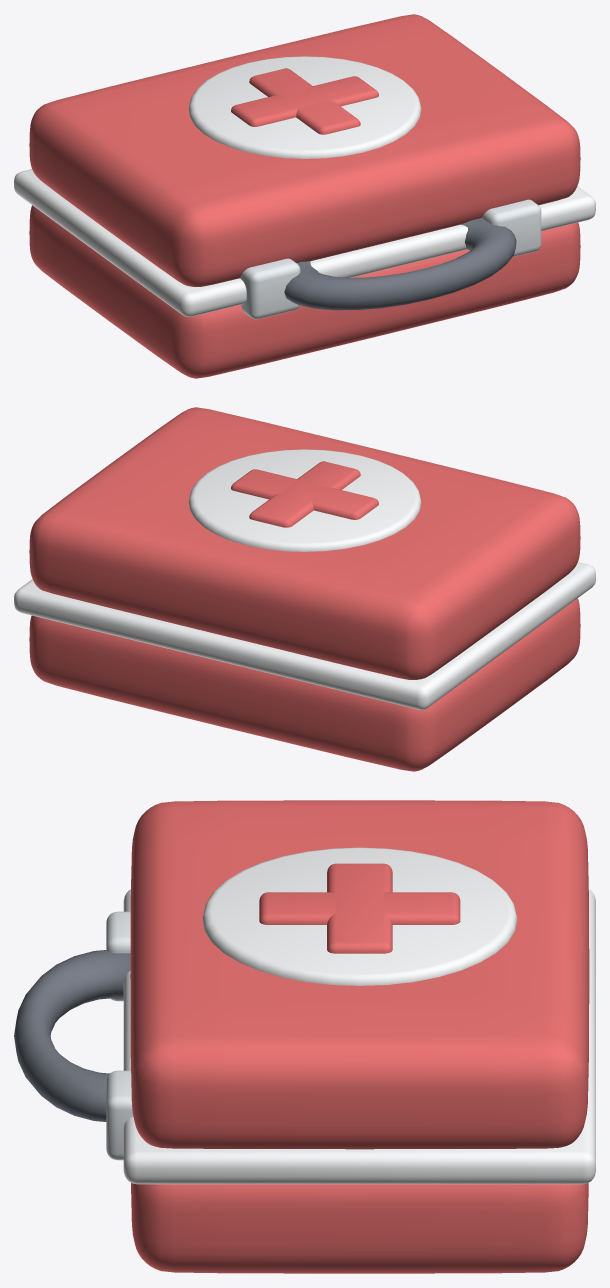
File: SM_FirstAidKit.fbx
3 renders of one model, top to bottom at view 1: azimuth 30°, elevation 25°; view 2: azimuth 150°, elevation 25°; view 3: azimuth 270°, elevation 25°, orthographic. The views are drawn at different scales.
Visible parts, largest first — view 1: SM_FirstAidKit; view 2: SM_FirstAidKit; view 3: SM_FirstAidKit.
Boxes of the visible parts, bbox=[...] form: SM_FirstAidKit: bbox=[14, 14, 595, 378]; SM_FirstAidKit: bbox=[14, 407, 595, 771]; SM_FirstAidKit: bbox=[14, 800, 595, 1273].
Size of the model in its own units: 38.48 by 16.5 by 34.61.
